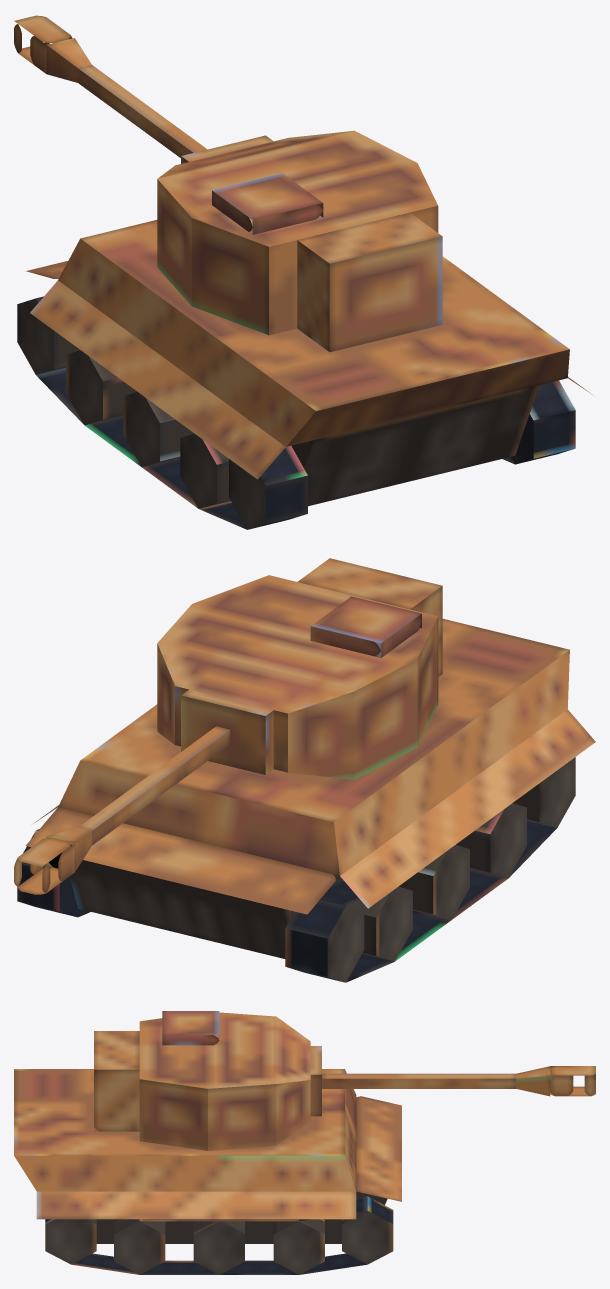
3 renders of one model, top to bottom at view 1: azimuth 30°, elevation 25°; view 2: azimuth 150°, elevation 25°; view 3: azimuth 270°, elevation 25°, orthographic. The views are drawn at different scales.
Parts seen in each view (by area): view 1: base, cuboid, left, cuboid_1, downbase, cuboid_selection, cuboid_3, right, cuboid_selection_selection, cuboid_2; view 2: base, cuboid, left, downbase, cuboid_2, cuboid_selection, cuboid_3, cuboid_1, cuboid_selection_selection, right; view 3: base, cuboid, right, cuboid_1, cuboid_selection, downbase, cuboid_3, cuboid_selection_selection, cuboid_2.
Boxes of the visible parts, x1=… form: base: x1=26, y1=220, x2=593, y2=479; cuboid: x1=157, y1=130, x2=438, y2=335; left: x1=17, y1=296, x2=307, y2=529; cuboid_1: x1=297, y1=212, x2=442, y2=352; downbase: x1=291, y1=385, x2=539, y2=506; cuboid_selection: x1=46, y1=38, x2=207, y2=157; cuboid_3: x1=212, y1=173, x2=323, y2=234; right: x1=503, y1=380, x2=575, y2=464; cuboid_selection_selection: x1=14, y1=15, x2=72, y2=73; cuboid_2: x1=181, y1=135, x2=273, y2=163; base: x1=25, y1=618, x2=595, y2=914; cuboid: x1=157, y1=575, x2=438, y2=779; left: x1=285, y1=757, x2=575, y2=982; downbase: x1=69, y1=860, x2=341, y2=958; cuboid_2: x1=181, y1=689, x2=273, y2=774; cuboid_selection: x1=46, y1=726, x2=230, y2=872; cuboid_3: x1=310, y1=596, x2=421, y2=657; cuboid_1: x1=297, y1=558, x2=442, y2=676; cuboid_selection_selection: x1=14, y1=838, x2=74, y2=894; right: x1=17, y1=829, x2=90, y2=917; base: x1=14, y1=1069, x2=401, y2=1219; cuboid: x1=139, y1=1012, x2=310, y2=1150; right: x1=45, y1=1196, x2=393, y2=1274; cuboid_1: x1=94, y1=1031, x2=139, y2=1131; cuboid_selection: x1=322, y1=1066, x2=550, y2=1096; downbase: x1=96, y1=1191, x2=387, y2=1243; cuboid_3: x1=162, y1=1011, x2=219, y2=1045; cuboid_selection_selection: x1=550, y1=1066, x2=595, y2=1096; cuboid_2: x1=310, y1=1046, x2=321, y2=1116.
Bounding box in the file's own units: 150 × 110 × 319.
Materials: 1 (1 with a texture image).
